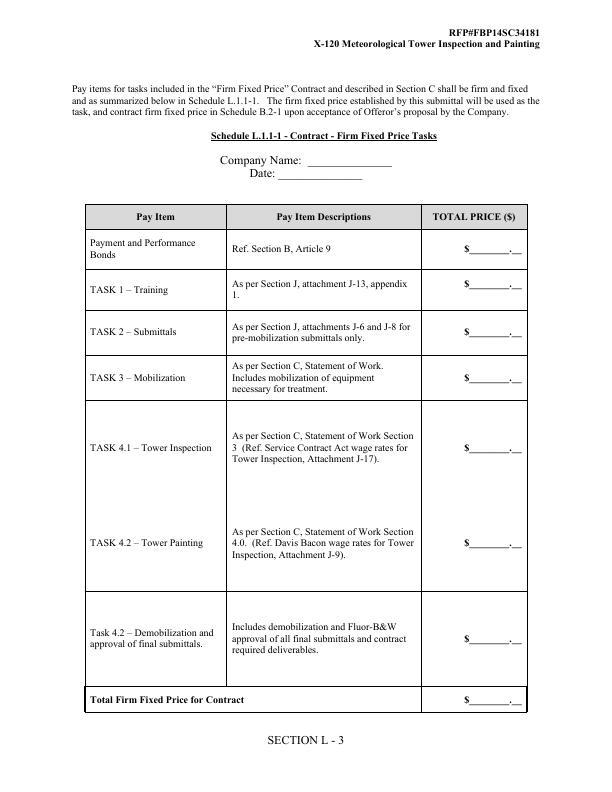input: (305, 152, 395, 171), (276, 169, 364, 183)
table: (79, 200, 533, 718)
text: (67, 83, 547, 122), (306, 24, 549, 55), (203, 128, 441, 146), (220, 153, 304, 165), (249, 168, 276, 180)
